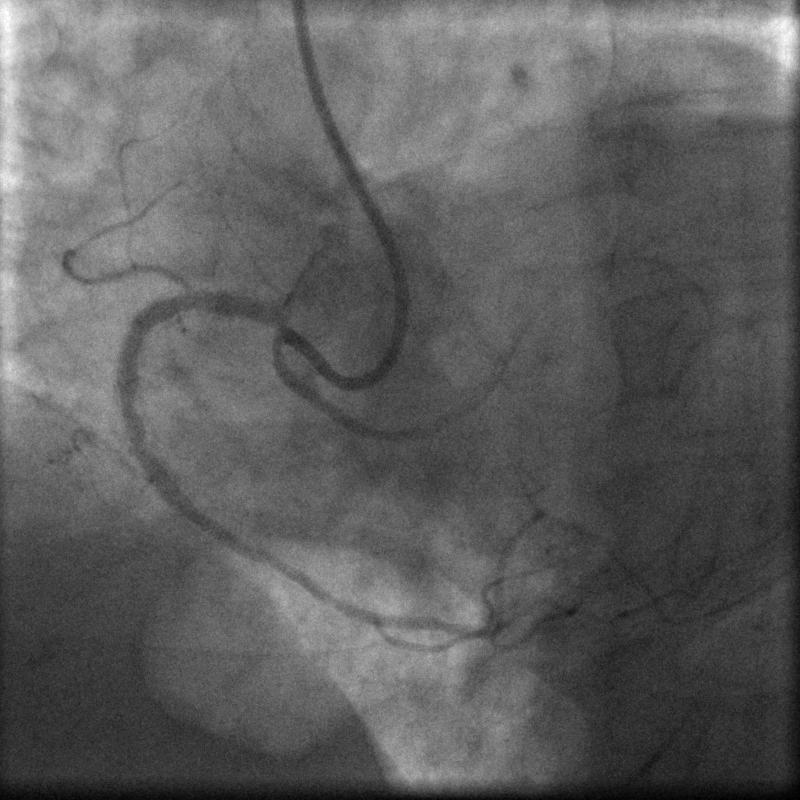Stenosis: (122, 396, 159, 466)
